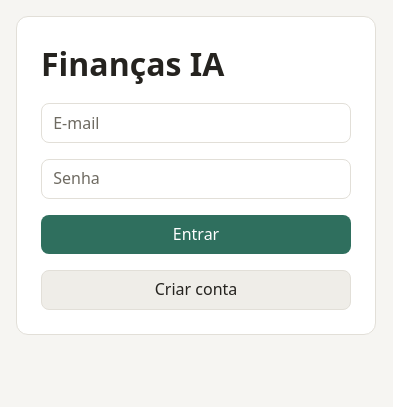
Test: LoginView › alterna para criar conta e mostra o campo de nome
What coordinates should you click on to do the following:
click the button "Criar conta"
I would click on:
 (196, 290)
Its box is [41,270,351,310].
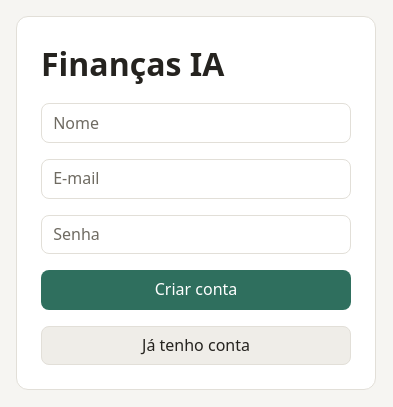
Expected: the field with placeholder "Nome" is shown, [41,103,351,143]
Expected: the text "Já tenho conta" is shown, [41,326,351,365]
